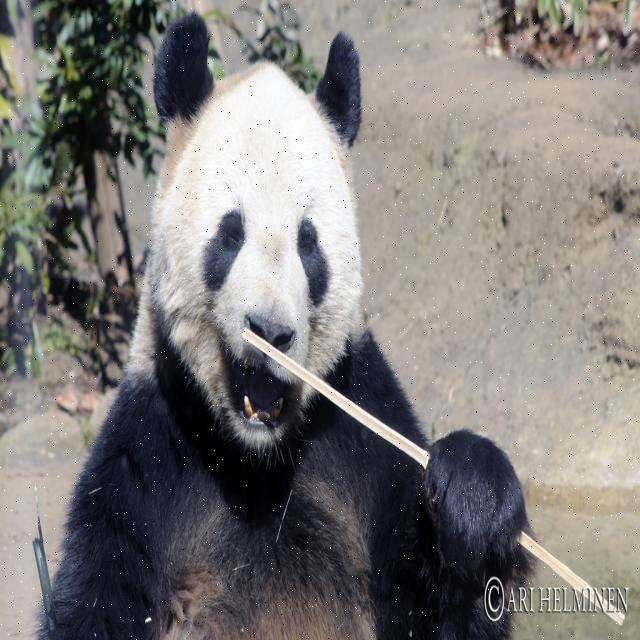panda: (32, 5, 535, 639)
